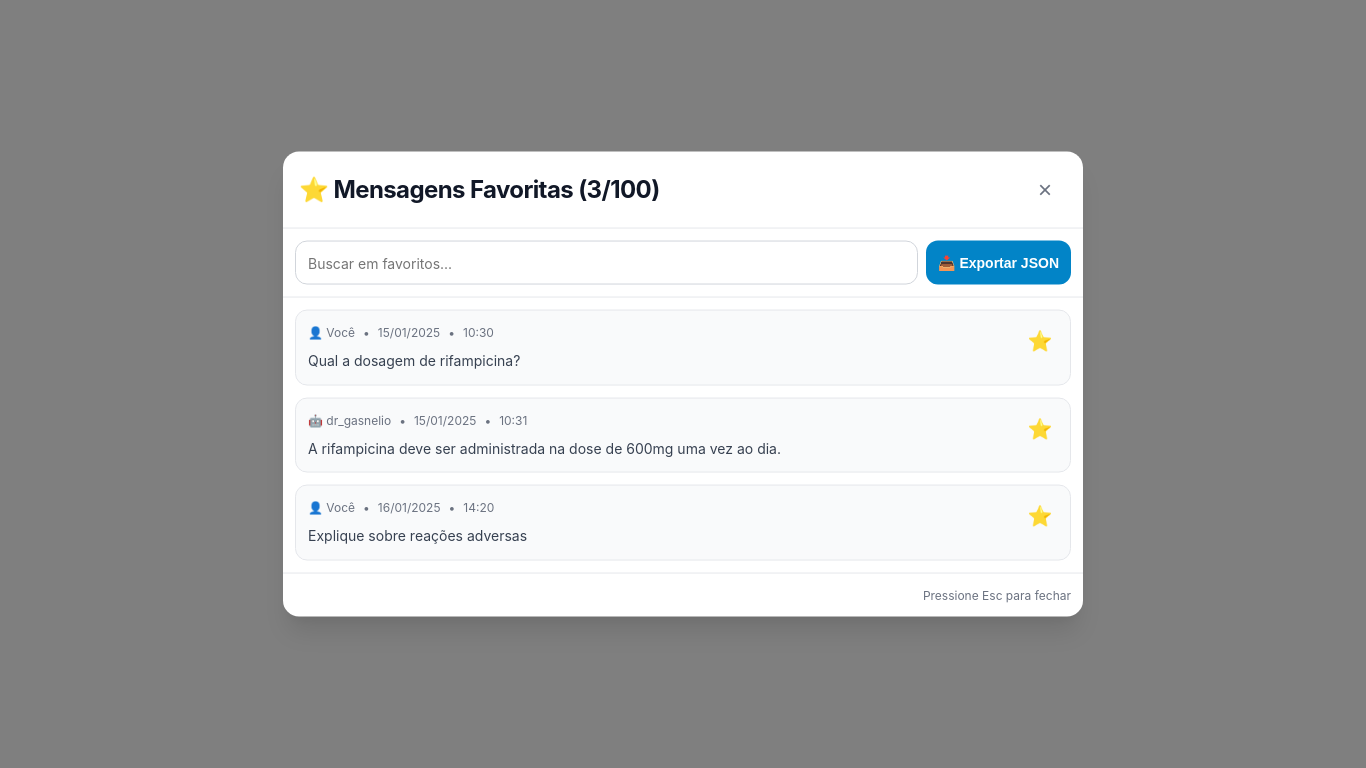
Test: FavoritesModal - Issue #331 › Search Functionality › should filter favorites by persona
The width and height of the screenshot is (1366, 768).
In the search field: [606, 262] box x1=295 y1=240 x2=918 y2=284, type "gasnelio"
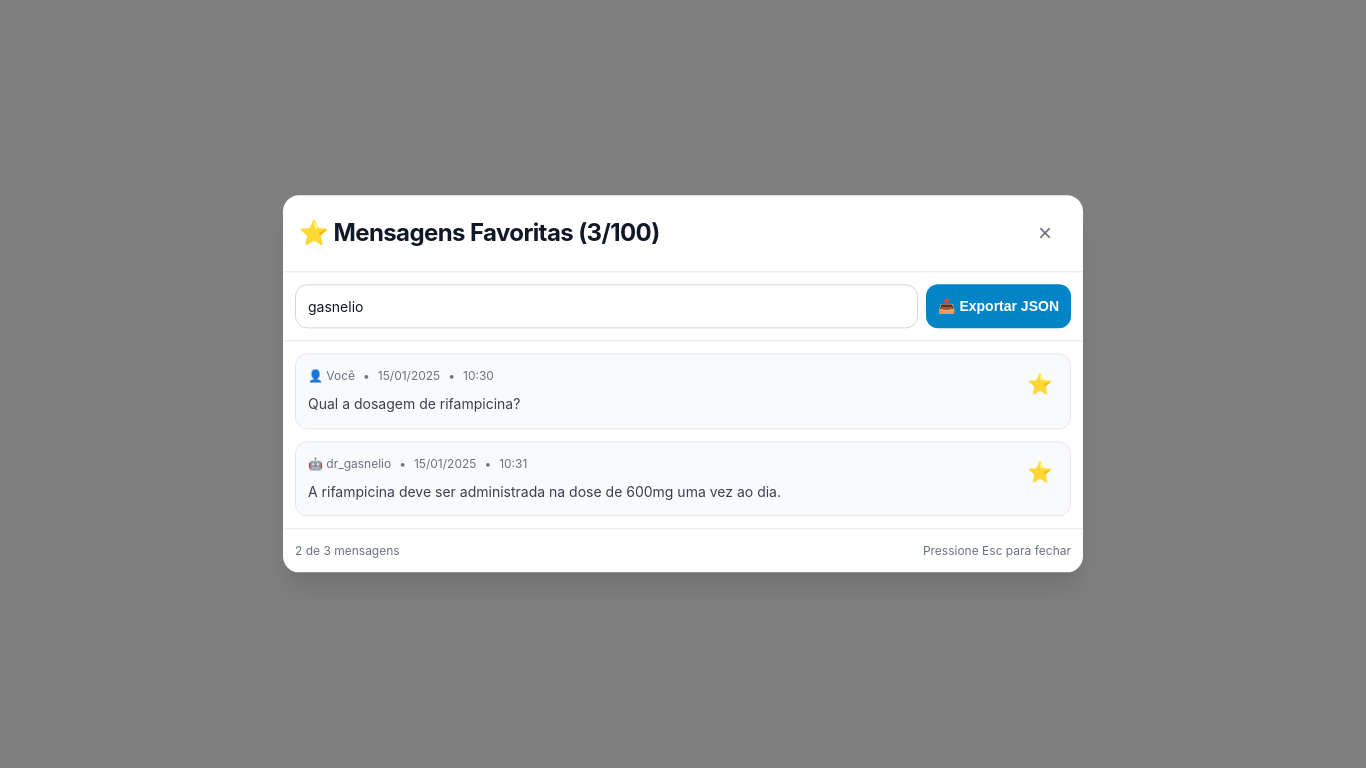
Expected: the text "Qual a dosagem de rifampicina?" is shown, x1=308 y1=396 x2=520 y2=412
Result: the text "Explique sobre reações adversas" is gone
